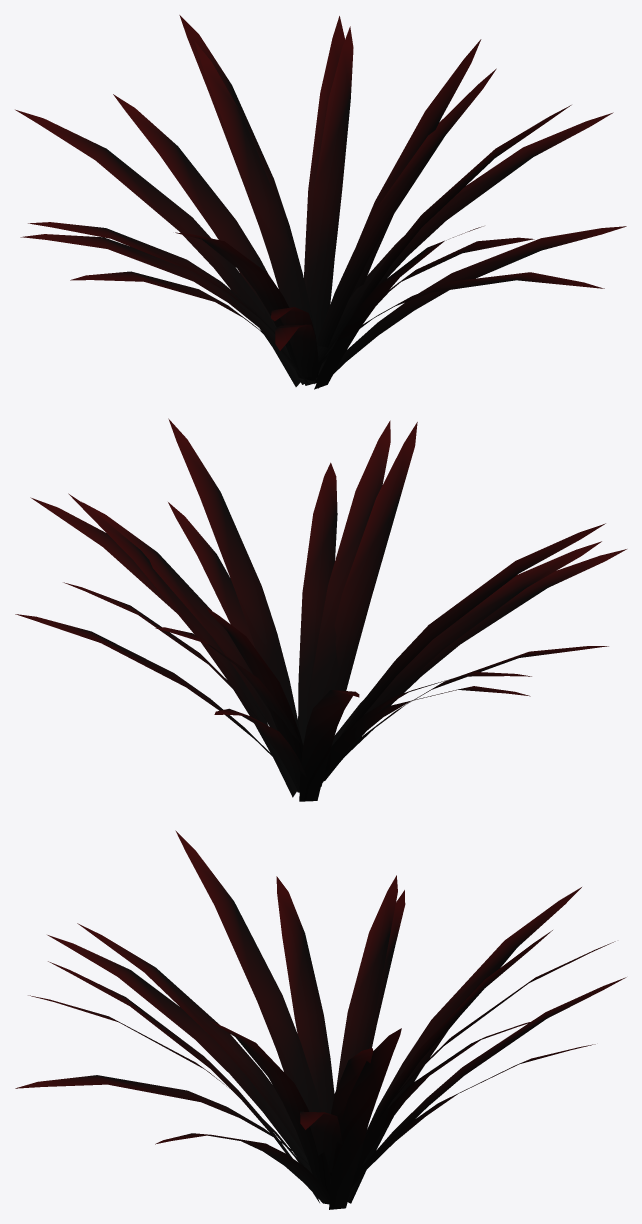
File: Grass01B.fbx
The picture shows the model from 3 angles, top to bottom: view 1: azimuth 30°, elevation 25°; view 2: azimuth 150°, elevation 25°; view 3: azimuth 270°, elevation 25°; orthographic projection.
Parts seen in each view (by area): view 1: Grass01B; view 2: Grass01B; view 3: Grass01B.
Part boxes in pixels (x1,y1,x2,y2): Grass01B: (15,15,626,389); Grass01B: (15,418,626,801); Grass01B: (15,830,626,1209).
Bounding box in the file's own units: 2.36 × 1.12 × 2.22.
